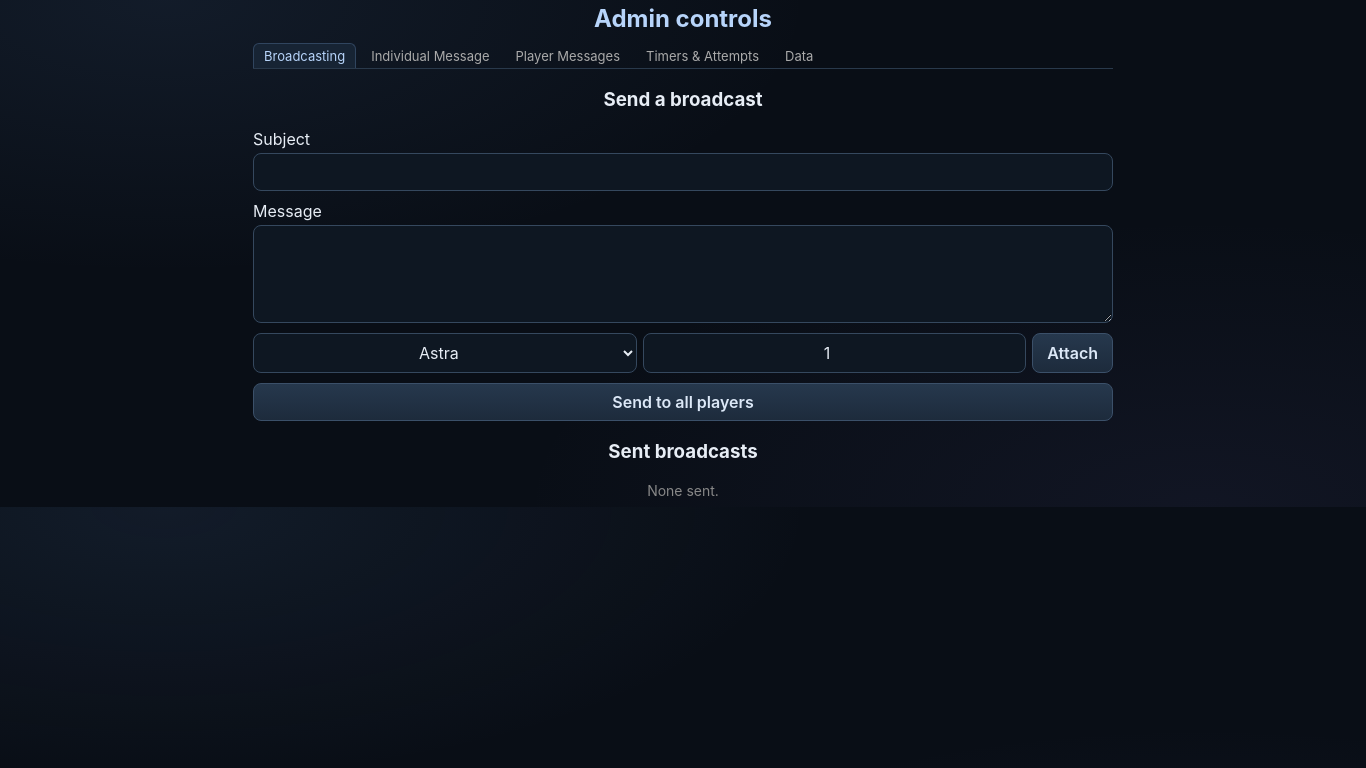
legacy player reports without a type are displayed as bugs
Click the tab "Player Messages": click(568, 56) 504,43 -> 631,68
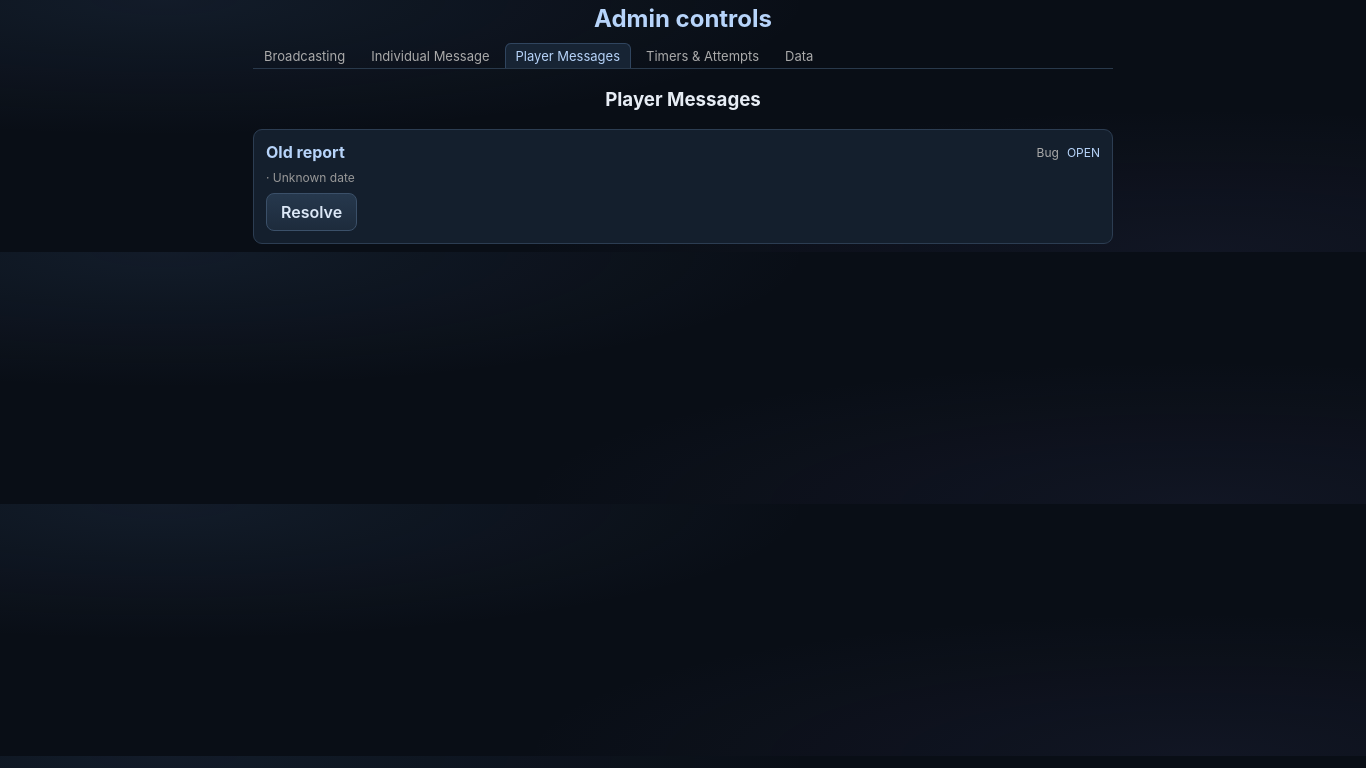
Now the heading "Old report" is shown, box 266,142 -> 345,162
Now the text "Bug" is shown, box 1037,145 -> 1059,160
